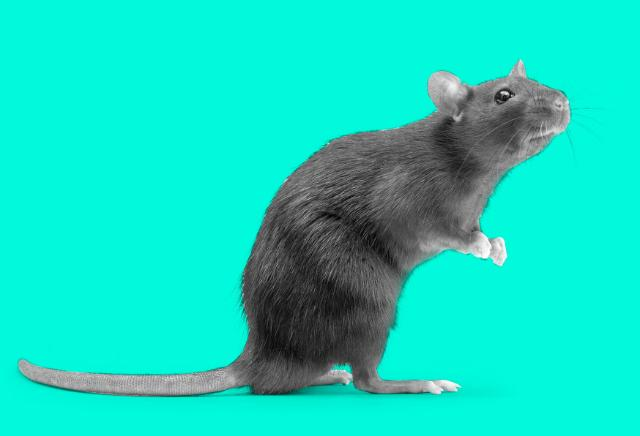rat: (8, 51, 590, 413)
